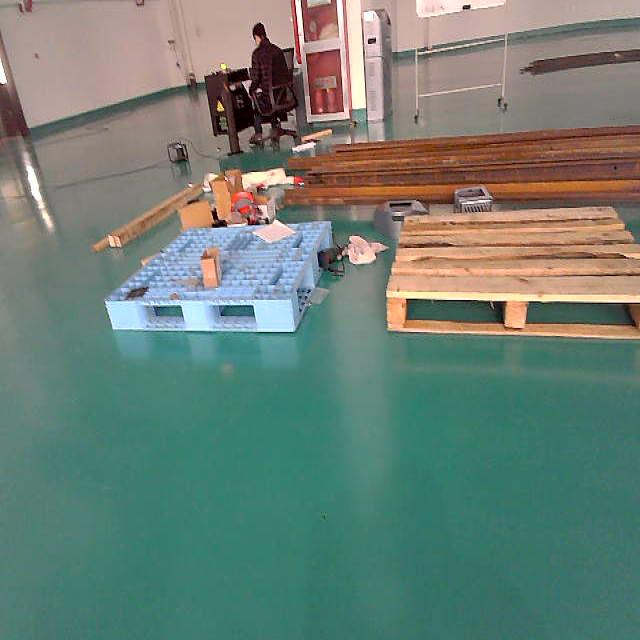euro: (388, 208, 640, 347)
